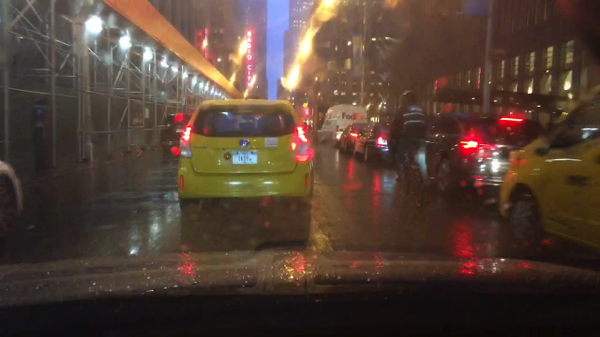bike: (396, 150, 425, 212)
car: (497, 80, 599, 258), (175, 98, 314, 207), (415, 115, 545, 205), (0, 156, 26, 243), (363, 118, 397, 167), (160, 112, 193, 153), (340, 123, 363, 156), (352, 125, 373, 160)
rider: (386, 87, 428, 183)
traffic sign: (489, 48, 505, 62)
truck: (322, 104, 368, 139)
